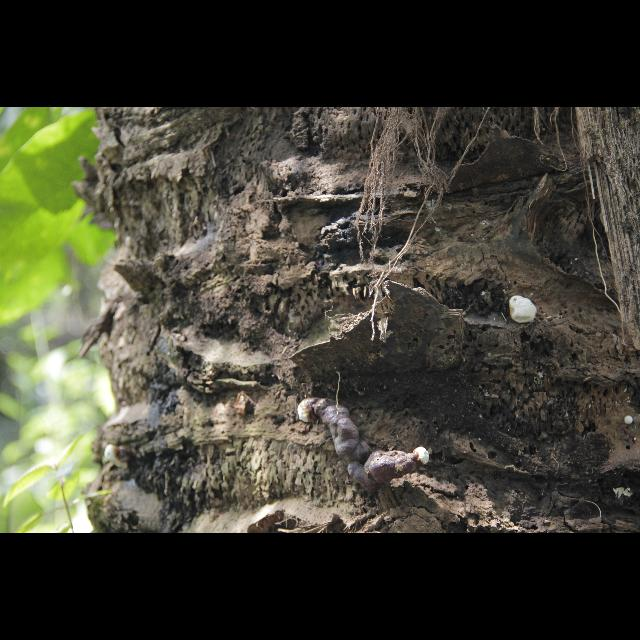ganoderma: (321, 399, 414, 492)
primordium: (510, 297, 539, 326), (105, 446, 135, 471), (299, 398, 320, 424), (414, 447, 431, 469), (626, 417, 635, 426)
